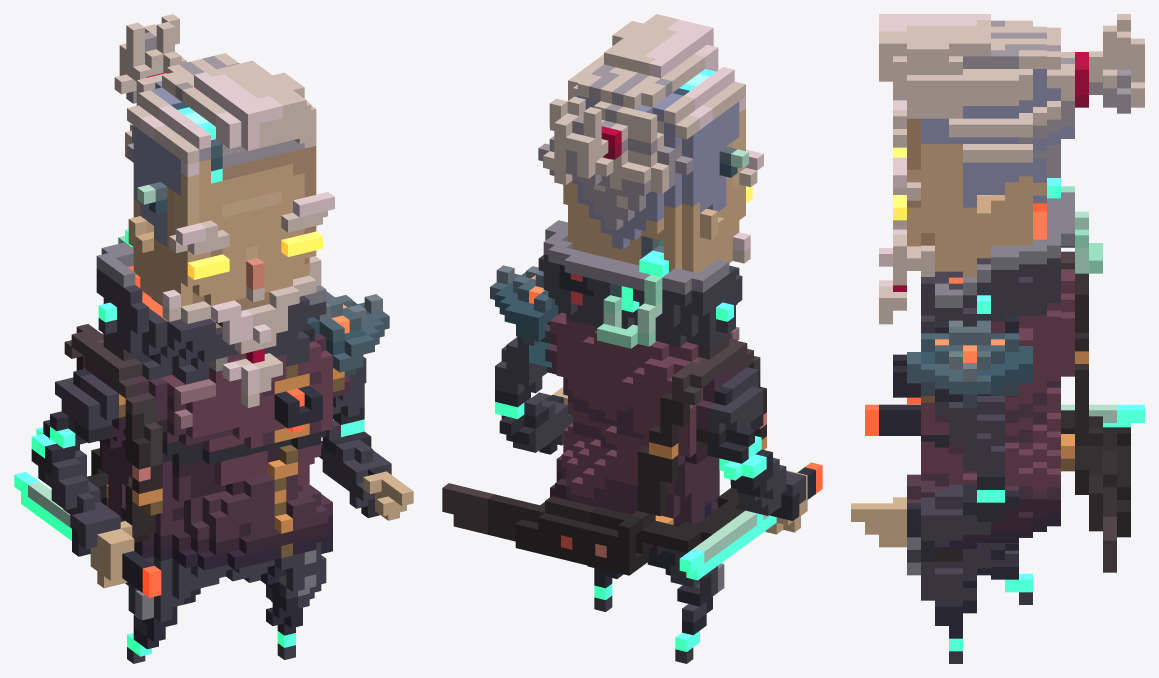
Rendered from samurai.glb.
3 renders of one model, left to right at view 1: azimuth 30°, elevation 25°; view 2: azimuth 150°, elevation 25°; view 3: azimuth 270°, elevation 25°, orthographic. The views are drawn at different scales.
Visible parts, largest first — view 1: Body SM-01.001, Head SM-01.001, Hair SM-01.001, Face SM-01.001, REF ACC-03_CyberCollar.001, REF ACC-02_Scabbard.001, REF ACC-01_Pauldron.001, REF ITM-01_Glowsword.001, REF FAC-A-01_Frontcrest.001, REF MOD-01_Head.001; view 2: Body SM-01.001, Hair SM-01.001, REF ACC-02_Scabbard.001, Head SM-01.001, REF ACC-03_CyberCollar.001, REF ACC-01_Pauldron.001, REF ITM-01_Glowsword.001, Face SM-01.001, REF MOD-01_Head.001; view 3: Body SM-01.001, Hair SM-01.001, Head SM-01.001, REF ACC-03_CyberCollar.001, REF ACC-02_Scabbard.001, REF ACC-01_Pauldron.001, Face SM-01.001, REF ITM-01_Glowsword.001, REF FAC-A-01_Frontcrest.001.
Part boxes in pixels (x1,y1,x2,y2): Body SM-01.001: (31, 319, 413, 663); Head SM-01.001: (127, 124, 316, 328); Hair SM-01.001: (114, 14, 316, 164); Face SM-01.001: (162, 192, 334, 407); REF ACC-03_CyberCollar.001: (96, 229, 326, 362); REF ACC-02_Scabbard.001: (64, 324, 162, 543); REF ACC-01_Pauldron.001: (307, 291, 389, 376); REF ITM-01_Glowsword.001: (14, 472, 161, 597); REF FAC-A-01_Frontcrest.001: (274, 385, 322, 432); REF MOD-01_Head.001: (137, 102, 222, 213); Body SM-01.001: (495, 305, 807, 663); Hair SM-01.001: (538, 14, 745, 195); REF ACC-02_Scabbard.001: (442, 333, 766, 575); Head SM-01.001: (563, 96, 745, 273); REF ACC-03_CyberCollar.001: (538, 220, 742, 348); REF ACC-01_Pauldron.001: (490, 265, 558, 345); REF ITM-01_Glowsword.001: (679, 462, 822, 580); Face SM-01.001: (732, 149, 763, 263); REF MOD-01_Head.001: (673, 69, 748, 177); Body SM-01.001: (851, 269, 1074, 663); Hair SM-01.001: (879, 14, 1144, 162); Head SM-01.001: (907, 94, 1060, 276); REF ACC-03_CyberCollar.001: (921, 178, 1102, 326); REF ACC-02_Scabbard.001: (1061, 251, 1130, 572); REF ACC-01_Pauldron.001: (907, 320, 1032, 407); Face SM-01.001: (879, 100, 934, 324); REF ITM-01_Glowsword.001: (865, 404, 1144, 435); REF FAC-A-01_Frontcrest.001: (893, 354, 920, 404).
Bounding box in the file's own units: 2.6 × 4.8 × 2.1.
4 materials, 4 textured.
